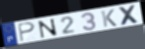2: (60, 15, 77, 35)
3: (80, 12, 98, 32)
K: (100, 8, 118, 28)
N: (37, 18, 59, 39)
P: (17, 21, 37, 43)
X: (117, 4, 142, 26)
